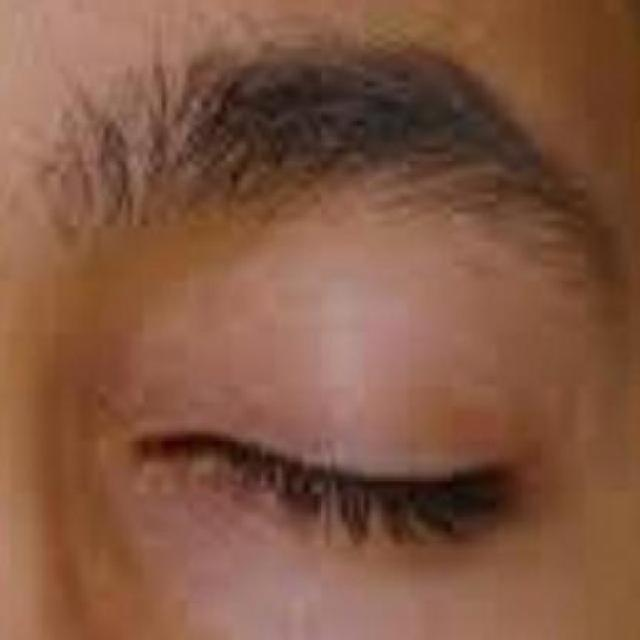drowsy: (119, 267, 536, 638)
